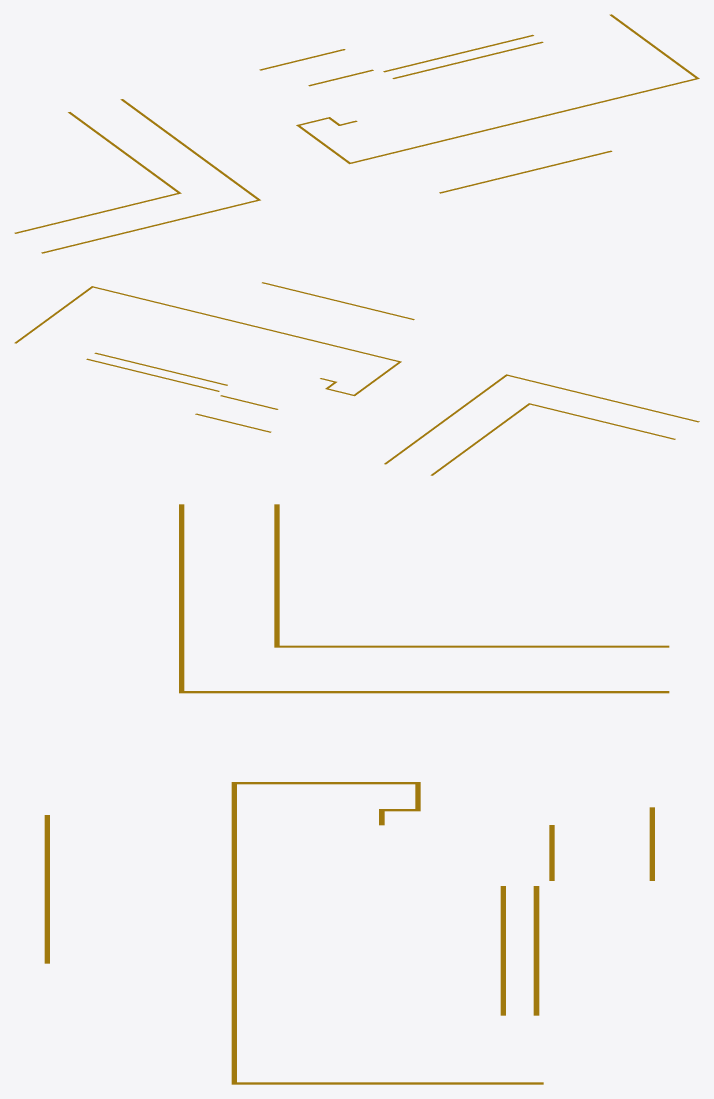
The model's file is YF_JS_HuangXian.FBX.
3 views of the same model, one above another, from view 1: azimuth 30°, elevation 25°; view 2: azimuth 150°, elevation 25°; view 3: azimuth 270°, elevation 25° (orthographic). The views are drawn at different scales.
Parts seen in each view (by area): view 1: YF_Model_HuangXian_134, YF_Model_HuangXian_128, YF_Model_HuangXian_133; view 2: YF_Model_HuangXian_134, YF_Model_HuangXian_128, YF_Model_HuangXian_133; view 3: YF_Model_HuangXian_134, YF_Model_HuangXian_133, YF_Model_HuangXian_136, YF_Model_HuangXian_128, YF_Model_HuangXian_135, YF_Model_HuangXian_141, YF_Model_HuangXian_142.
Boxes of the visible parts, box(x1,y1,x2,y2) form: YF_Model_HuangXian_134: box(351, 78, 696, 163); YF_Model_HuangXian_128: box(41, 199, 260, 253); YF_Model_HuangXian_133: box(120, 99, 259, 199); YF_Model_HuangXian_134: box(93, 286, 399, 361); YF_Model_HuangXian_128: box(505, 374, 699, 422); YF_Model_HuangXian_133: box(384, 375, 506, 464); YF_Model_HuangXian_134: box(231, 784, 236, 1082); YF_Model_HuangXian_133: box(184, 691, 669, 693); YF_Model_HuangXian_136: box(279, 645, 669, 647); YF_Model_HuangXian_128: box(179, 504, 184, 693); YF_Model_HuangXian_135: box(231, 1082, 543, 1084); YF_Model_HuangXian_141: box(533, 886, 539, 1015); YF_Model_HuangXian_142: box(44, 815, 49, 963).
Bounding box in the file's own units: 2018 × 0.000449 × 918.
